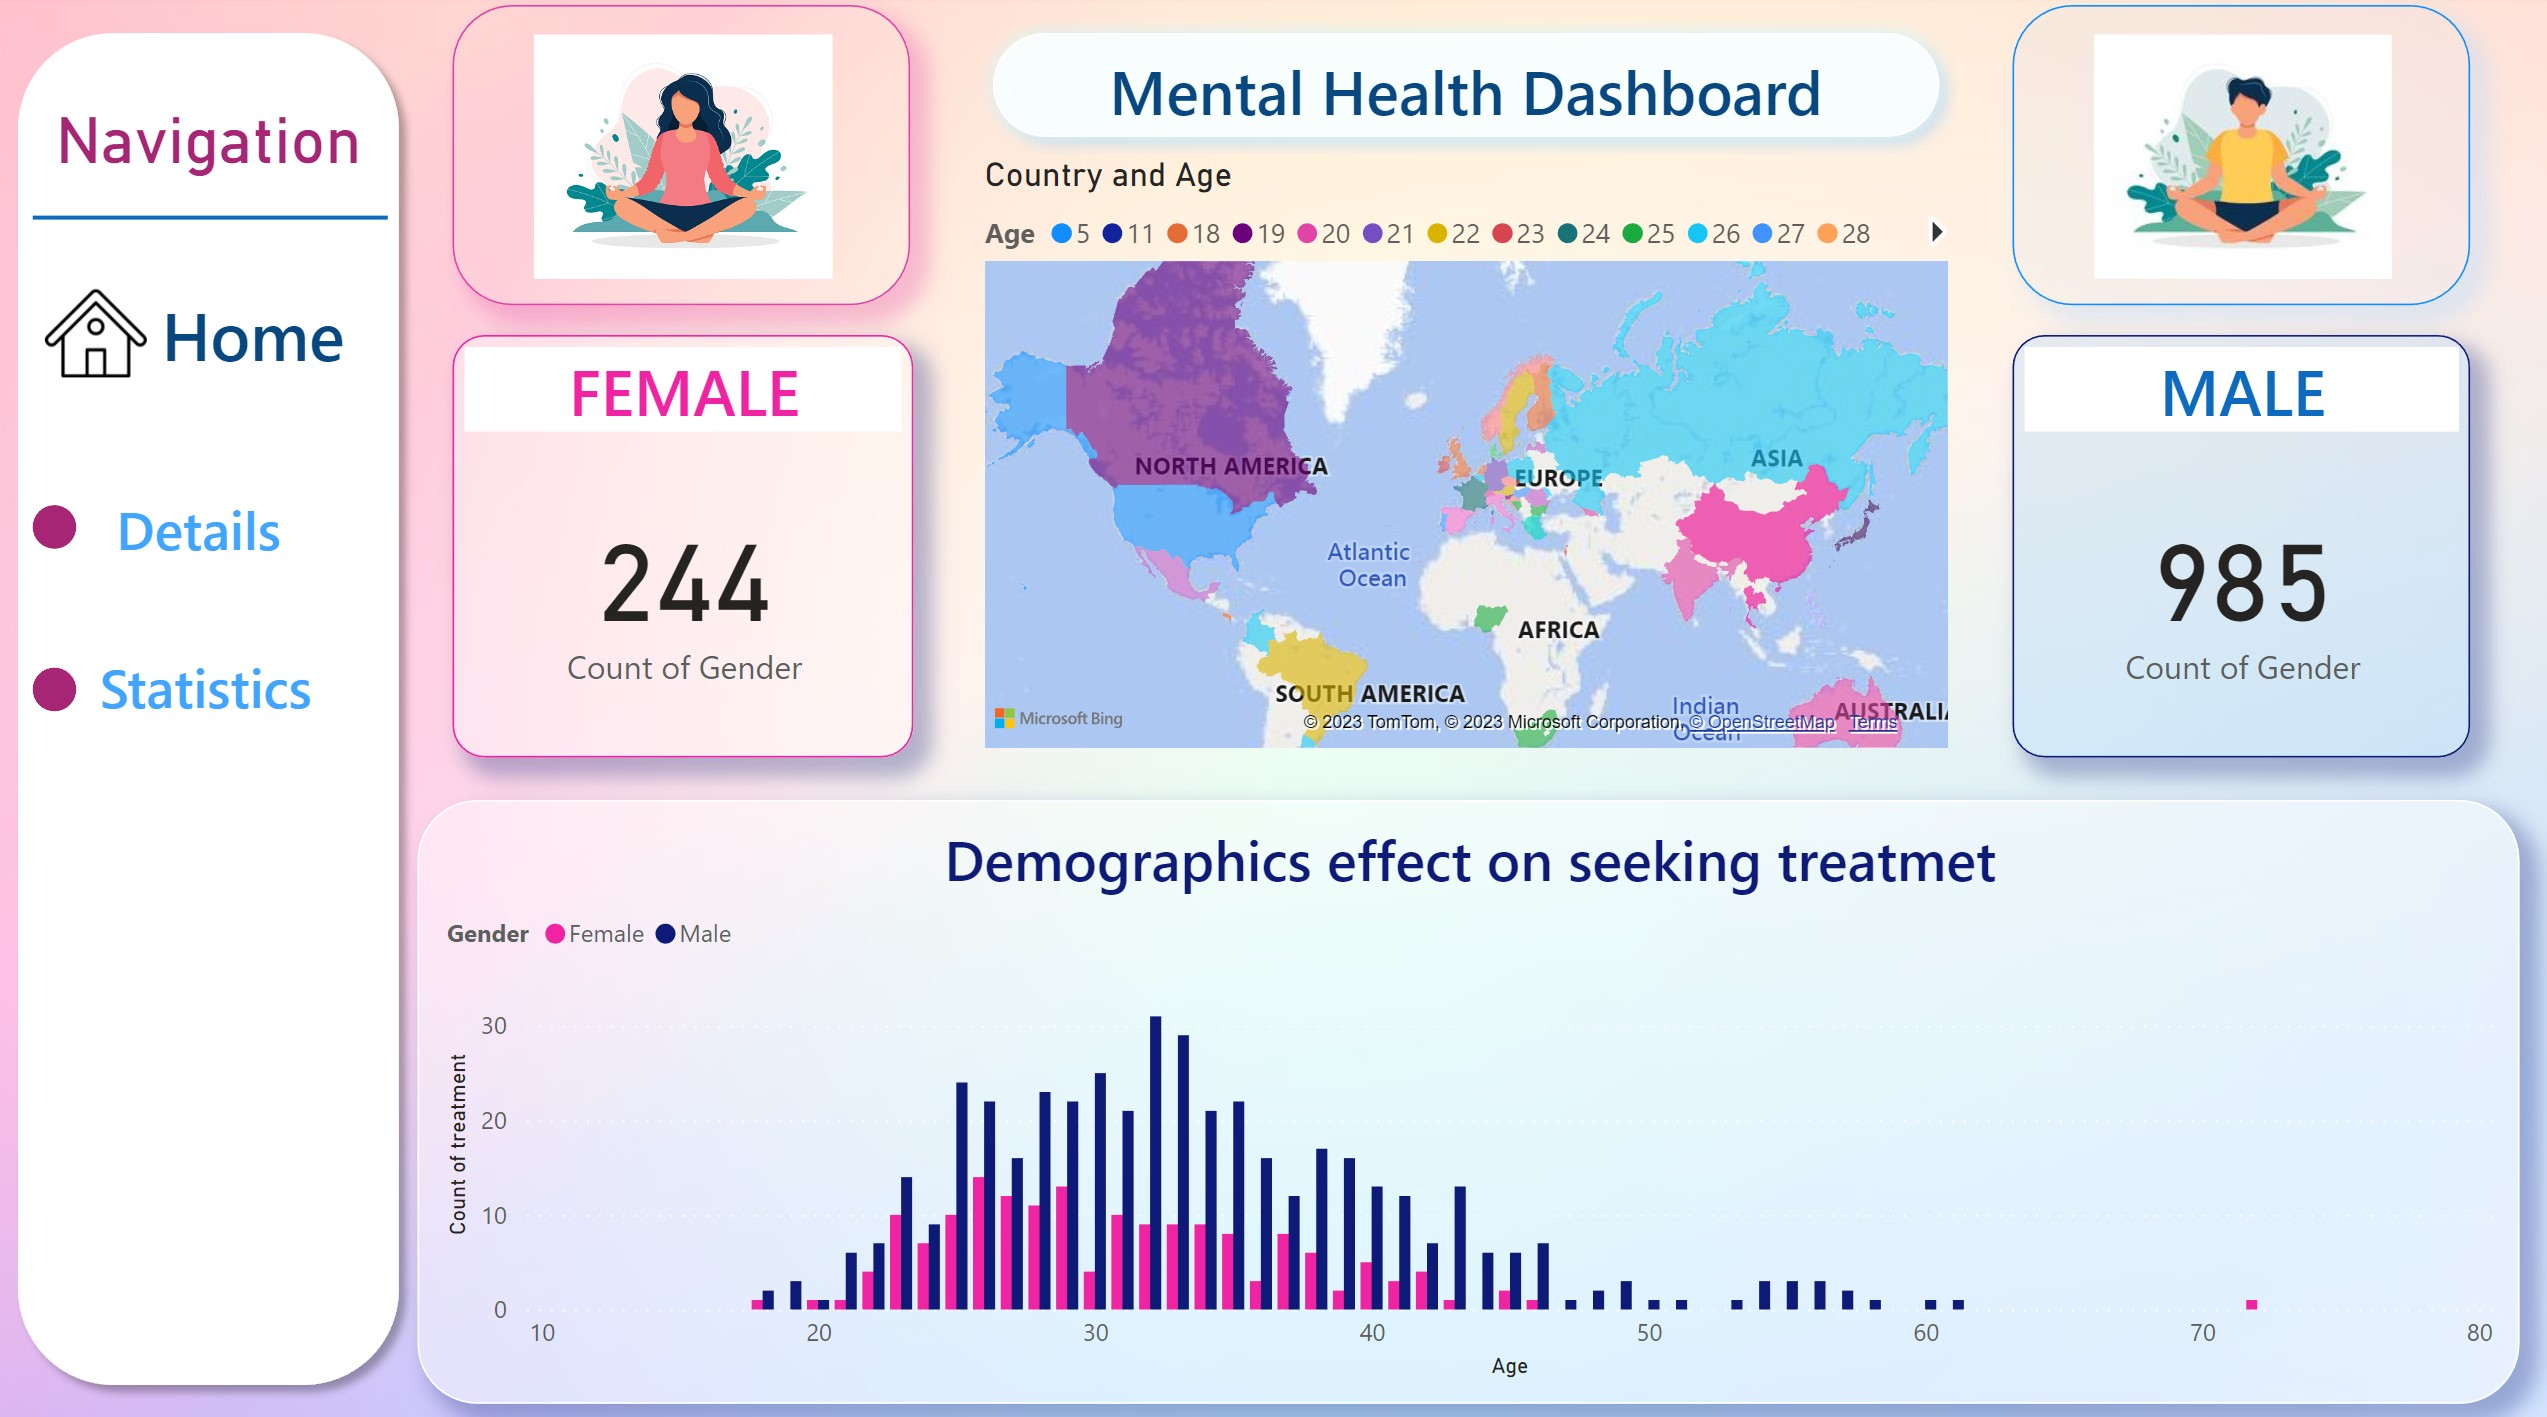

What the dashboard file says about the page in this screenshot:
{"tool":"powerbi","page":{"name":"HOME","canvas":[1280,720],"ordinal":0},"visuals":[{"type":"shape","box":[0,13.1,208.8,695.2],"z":0},{"type":"actionButton","box":[10.2,134.4,166.5,75.9],"z":1000},{"type":"shape","box":[487.8,13.1,492.2,70.1],"z":2000},{"type":"textbox","title":"  Navigation","box":[21.9,57,166.5,52.6],"z":3000},{"type":"shape","box":[16.1,96.4,178.2,35.1],"z":4000},{"type":"actionButton","box":[42.4,245.4,113.9,48.2],"z":5000},{"type":"shape","box":[16.1,258.5,21.9,21.9],"z":6000},{"type":"actionButton","box":[42,324.2,120.9,48.7],"z":7000},{"type":"shape","box":[16.1,338.8,21.9,21.9],"z":8000},{"type":"clusteredColumnChart","title":"Demographics effect on seeking treatmet","fields":{"Y":["CountNonNull(survey.treatment)"],"Category":["survey.Age"],"Series":["survey.Gender"]},"box":[208.8,406,1053,302.3],"z":9000},{"type":"card","title":"FEMALE","fields":{"Values":["CountNonNull(survey.Gender)"]},"box":[226.4,172.3,230.8,211.8],"z":10000},{"type":"card","title":"MALE","fields":{"Values":["CountNonNull(survey.Gender)"]},"box":[1007.7,172.3,229.3,211.8],"z":11000},{"type":"image","box":[226.4,7.3,229.3,150.4],"z":12000},{"type":"image","box":[1007.7,7.3,229.3,150.4],"z":13000},{"type":"filledMap","fields":{"Category":["survey.Country"],"Series":["survey.Age"]},"box":[488.3,82.6,492.1,301.8],"z":14000}]}

Visuals, with their boxes in screenshot pixels (x1, y1, x2, y2), scaled from the page's 1280x720 canvas onto the 2547x1417 screenshot:
shape: (0, 26, 415, 1394)
actionButton: (20, 265, 352, 414)
shape: (971, 26, 1950, 164)
"  Navigation" textbox: (44, 112, 375, 216)
shape: (32, 190, 387, 259)
actionButton: (84, 483, 311, 578)
shape: (32, 509, 76, 552)
actionButton: (84, 638, 324, 734)
shape: (32, 667, 76, 710)
"Demographics effect on seeking treatmet" clusteredColumnChart: (415, 799, 2511, 1394)
"FEMALE" card: (451, 339, 910, 756)
"MALE" card: (2005, 339, 2461, 756)
image: (451, 14, 907, 310)
image: (2005, 14, 2461, 310)
filledMap - survey.Country x survey.Age: (972, 163, 1951, 757)
